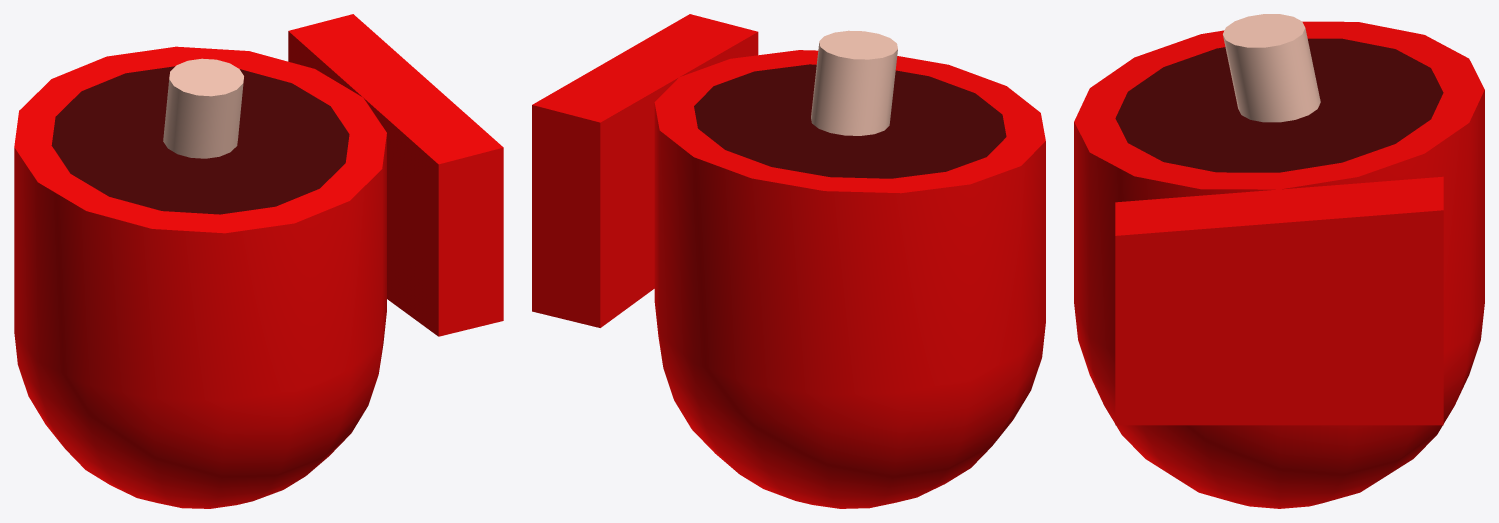
Rendered from SM.Crewmate.DeadLower.fbx.
3 renders of one model, left to right at view 1: azimuth 30°, elevation 25°; view 2: azimuth 150°, elevation 25°; view 3: azimuth 270°, elevation 25°, orthographic. The views are drawn at different scales.
Parts seen in each view (by area): view 1: SM.Crewmate.DeadLower; view 2: SM.Crewmate.DeadLower; view 3: SM.Crewmate.DeadLower.
Part boxes in pixels (x1=…): SM.Crewmate.DeadLower: x1=14, y1=14, x2=503, y2=508; SM.Crewmate.DeadLower: x1=532, y1=14, x2=1045, y2=508; SM.Crewmate.DeadLower: x1=1074, y1=14, x2=1484, y2=508.
Size of the model in its own units: 1.2 by 1.24 by 1.
